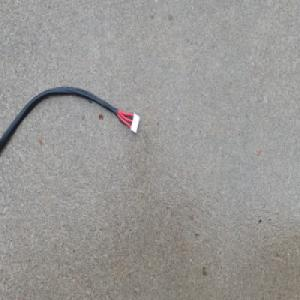Wire: (0, 84, 140, 159)
